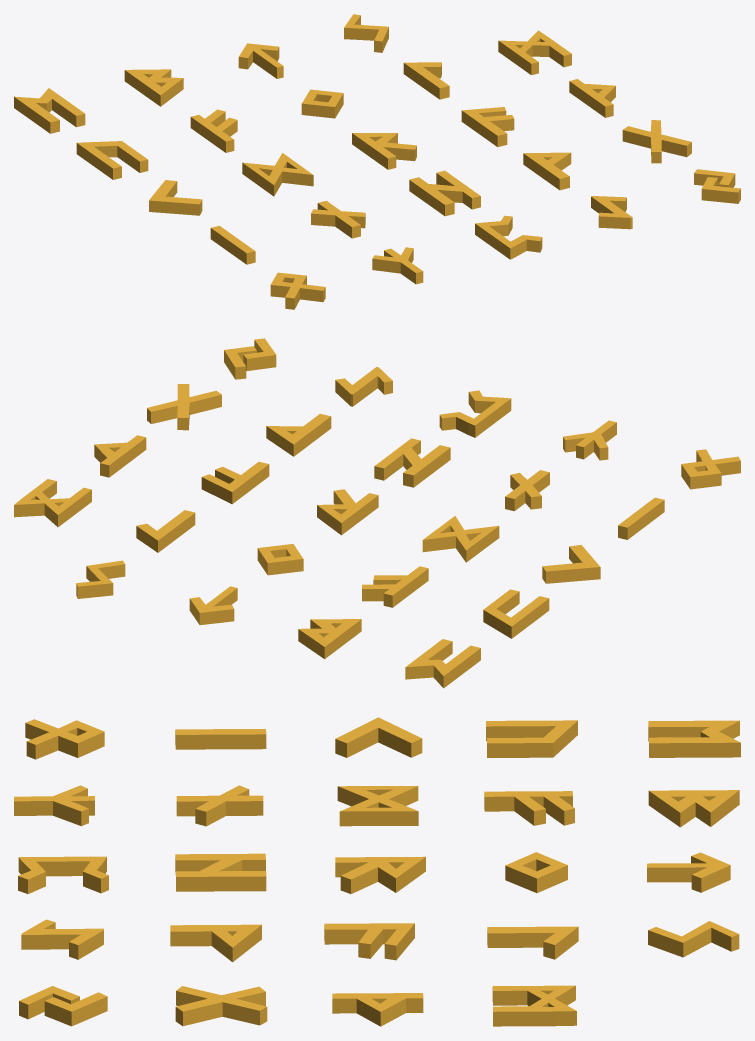
The model's file is runes icons.glb.
The picture shows the model from 3 angles, top to bottom: view 1: azimuth 30°, elevation 25°; view 2: azimuth 150°, elevation 25°; view 3: azimuth 270°, elevation 25°; orthographic projection. The views are drawn at different scales.
Visible parts, largest first — view 1: Hagalaz, Ehwaz, Uruz, Mannaz, Dagaz, Pertho, Raido, Berkana, Gebo, Ansuz, Othilla, Fehu (+12 smaller); view 2: Hagalaz, Ehwaz, Mannaz, Dagaz, Uruz, Pertho, Berkana, Gebo, Ansuz, Raido, Fehu, Othilla (+12 smaller); view 3: Hagalaz, Ehwaz, Mannaz, Uruz, Dagaz, Gebo, Raido, Berkana, Pertho, Ansuz, Fehu, Othilla (+12 smaller).
Boxes of the visible parts, x1=… form: Hagalaz: x1=409, y1=170, x2=480, y2=216; Ehwaz: x1=14, y1=88, x2=85, y2=133; Uruz: x1=76, y1=141, x2=148, y2=179; Mannaz: x1=498, y1=30, x2=571, y2=75; Dagaz: x1=242, y1=153, x2=313, y2=196; Pertho: x1=475, y1=215, x2=542, y2=259; Raido: x1=352, y1=133, x2=416, y2=169; Berkana: x1=124, y1=69, x2=183, y2=106; Gebo: x1=622, y1=120, x2=691, y2=163; Ansuz: x1=461, y1=107, x2=514, y2=146; Othilla: x1=270, y1=272, x2=325, y2=309; Fehu: x1=190, y1=109, x2=237, y2=152; Hagalaz: x1=374, y1=438, x2=450, y2=487; Ehwaz: x1=405, y1=639, x2=480, y2=688; Mannaz: x1=14, y1=479, x2=91, y2=527; Dagaz: x1=422, y1=516, x2=499, y2=562; Uruz: x1=483, y1=589, x2=549, y2=638; Pertho: x1=439, y1=390, x2=511, y2=437; Berkana: x1=298, y1=619, x2=361, y2=659; Gebo: x1=147, y1=384, x2=221, y2=430; Ansuz: x1=201, y1=461, x2=269, y2=504; Raido: x1=317, y1=489, x2=378, y2=535; Fehu: x1=362, y1=566, x2=428, y2=607; Othilla: x1=681, y1=449, x2=740, y2=489; Hagalaz: x1=175, y1=853, x2=266, y2=891; Ehwaz: x1=648, y1=720, x2=740, y2=757; Mannaz: x1=492, y1=985, x2=576, y2=1026; Uruz: x1=486, y1=720, x2=577, y2=757; Dagaz: x1=337, y1=786, x2=418, y2=826; Gebo: x1=175, y1=986, x2=267, y2=1026; Raido: x1=335, y1=856, x2=425, y2=893; Berkana: x1=648, y1=790, x2=739, y2=827; Pertho: x1=18, y1=856, x2=108, y2=893; Ansuz: x1=324, y1=923, x2=414, y2=960; Fehu: x1=484, y1=791, x2=574, y2=825; Othilla: x1=25, y1=719, x2=104, y2=759.
Bounding box in the file's own units: 4.42 × 0.1028 × 4.61.
